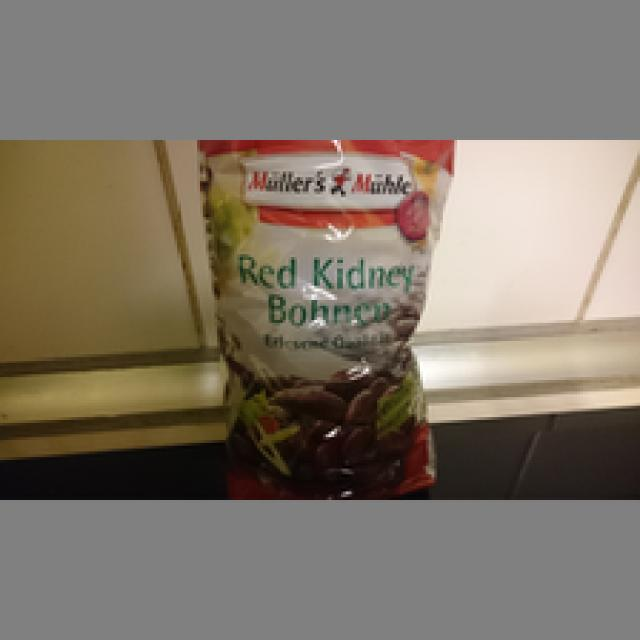groceries: (192, 137, 454, 497)
